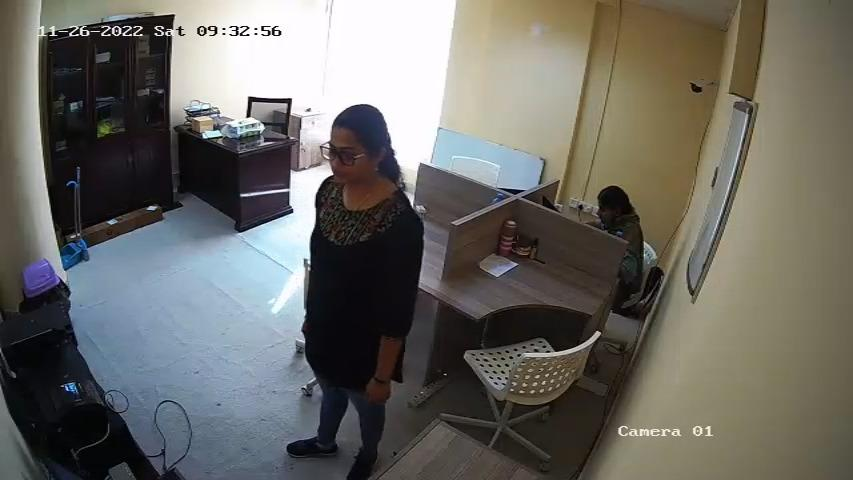no_apron: (305, 186, 392, 353)
